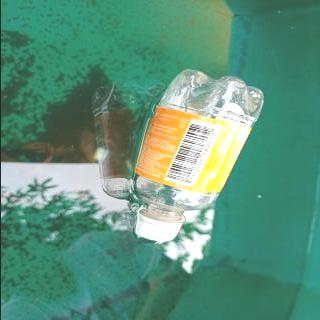bottle: (127, 67, 266, 243)
